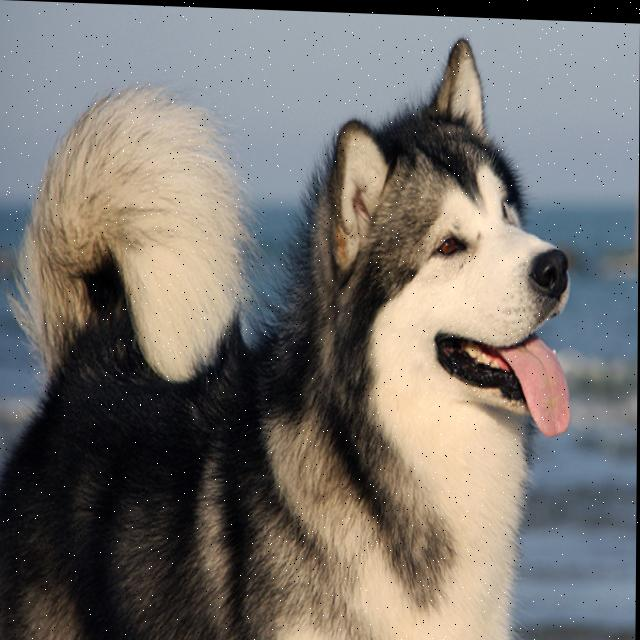ALASKAN_MALAMUTE: (0, 14, 583, 640)
